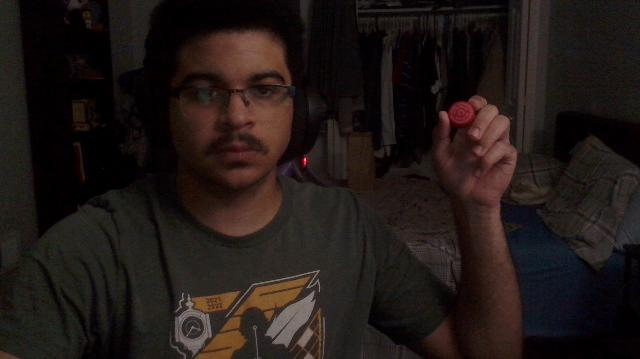cap: (448, 101, 476, 127)
